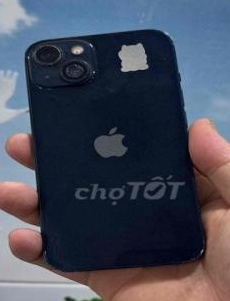physical_damage: (36, 43, 94, 80)
